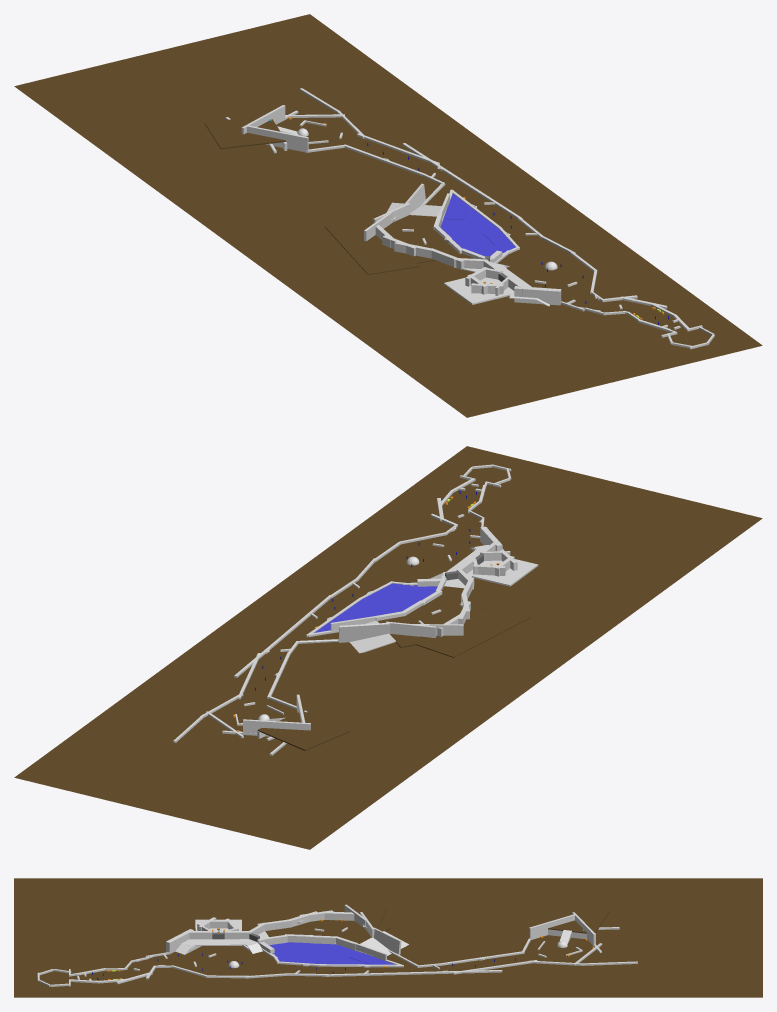
Rendered from LVL1_BO - copia.fbx.
3 views of the same model, one above another, from view 1: azimuth 30°, elevation 25°; view 2: azimuth 150°, elevation 25°; view 3: azimuth 270°, elevation 25° (orthographic). The views are drawn at different scales.
Parts seen in each view (by area): view 1: Plane, Cube.069, Cube.060, Cube.033, Cube.042, Cube.076, Cube.044, Cube.049; view 2: Plane, Cube.069, Cube.033, Cube.060, Cube.042, Cube.067, Cube.076; view 3: Plane, Cube.069, Cube.060, Cube.033, Cube.073, Cube.054, Cube.076, Cube.049, Cube.067, Cube.080, Cube.063, Cube.044 (+9 smaller).
Part boxes in pixels (left/top/right/bottom): Plane: left=14, top=14, right=762, bottom=417; Cube.069: left=325, top=219, right=419, bottom=274; Cube.060: left=384, top=217, right=456, bottom=263; Cube.033: left=204, top=116, right=285, bottom=149; Cube.042: left=444, top=277, right=514, bottom=304; Cube.076: left=444, top=219, right=502, bottom=256; Cube.044: left=514, top=286, right=561, bottom=305; Cube.049: left=247, top=125, right=308, bottom=151; Plane: left=14, top=446, right=762, bottom=849; Cube.069: left=411, top=603, right=530, bottom=657; Cube.033: left=257, top=711, right=350, bottom=750; Cube.060: left=389, top=596, right=487, bottom=638; Cube.042: left=467, top=559, right=538, bottom=586; Cube.067: left=338, top=623, right=390, bottom=642; Cube.076: left=360, top=585, right=422, bottom=617; Plane: left=14, top=878, right=762, bottom=997; Cube.069: left=281, top=900, right=386, bottom=926; Cube.060: left=285, top=917, right=364, bottom=941; Cube.033: left=548, top=905, right=609, bottom=933; Cube.073: left=280, top=943, right=358, bottom=961; Cube.054: left=326, top=970, right=502, bottom=976; Cube.076: left=275, top=950, right=355, bottom=957; Cube.049: left=529, top=914, right=574, bottom=939; Cube.067: left=374, top=927, right=401, bottom=954; Cube.080: left=311, top=958, right=383, bottom=965; Cube.063: left=360, top=931, right=408, bottom=955; Cube.044: left=166, top=929, right=193, bottom=953.
Size of the model in its own units: 1353 by 166 by 3588.
